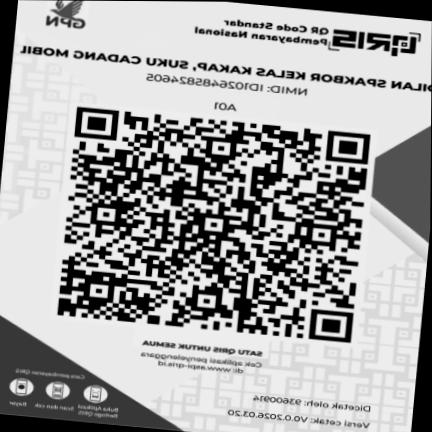Cara Pakai QRIS: (0, 366, 128, 424)
Cek Aplikasi Penyelenggara: (135, 350, 267, 377)
Dicetak Oleh: (246, 393, 381, 415)
Logo GPN: (36, 0, 102, 38)
Logo dan deskripsi QRIS: (184, 5, 432, 66)
Nama Merchant: (17, 42, 431, 96)
National Merchant ID: (138, 71, 315, 99)
QR Code: (48, 102, 380, 350)
Slogan: (137, 337, 269, 362)
Terminal ID: (208, 99, 243, 115)
Versi Cetak: (225, 409, 379, 431)
